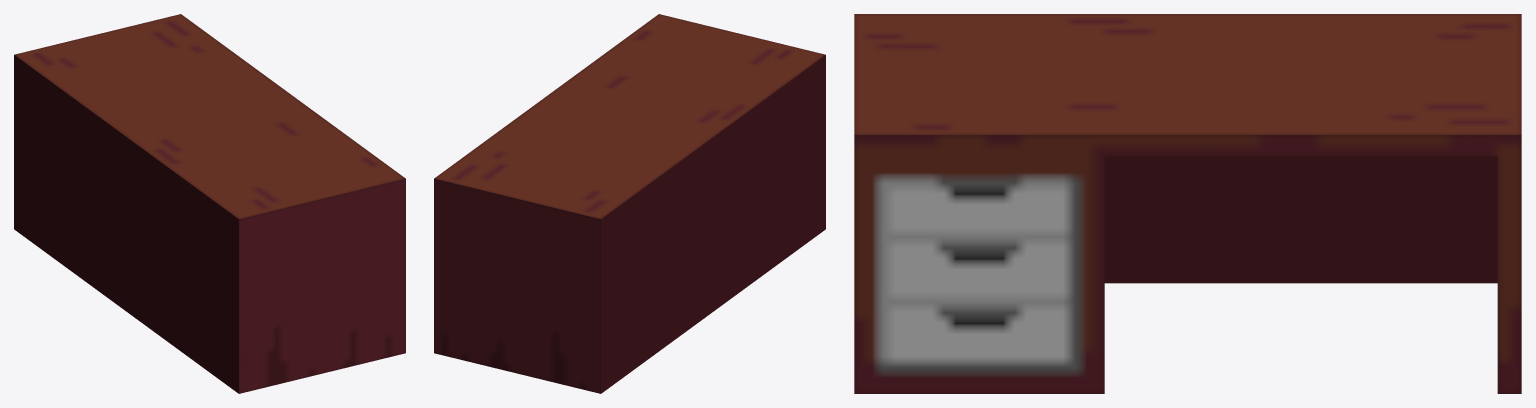
The model's file is Desk.fbx.
3 views of the same model, side by side, from view 1: azimuth 30°, elevation 25°; view 2: azimuth 150°, elevation 25°; view 3: azimuth 270°, elevation 25° (orthographic). The views are drawn at different scales.
Visible parts, largest first — view 1: cuboid; view 2: cuboid; view 3: cuboid.
Part boxes in pixels (left/top/right/bottom): cuboid: left=14, top=14, right=405, bottom=393; cuboid: left=434, top=14, right=825, bottom=393; cuboid: left=854, top=14, right=1521, bottom=393.
Size of the model in its own units: 150 by 150 by 350.
1 material, 1 textured.
